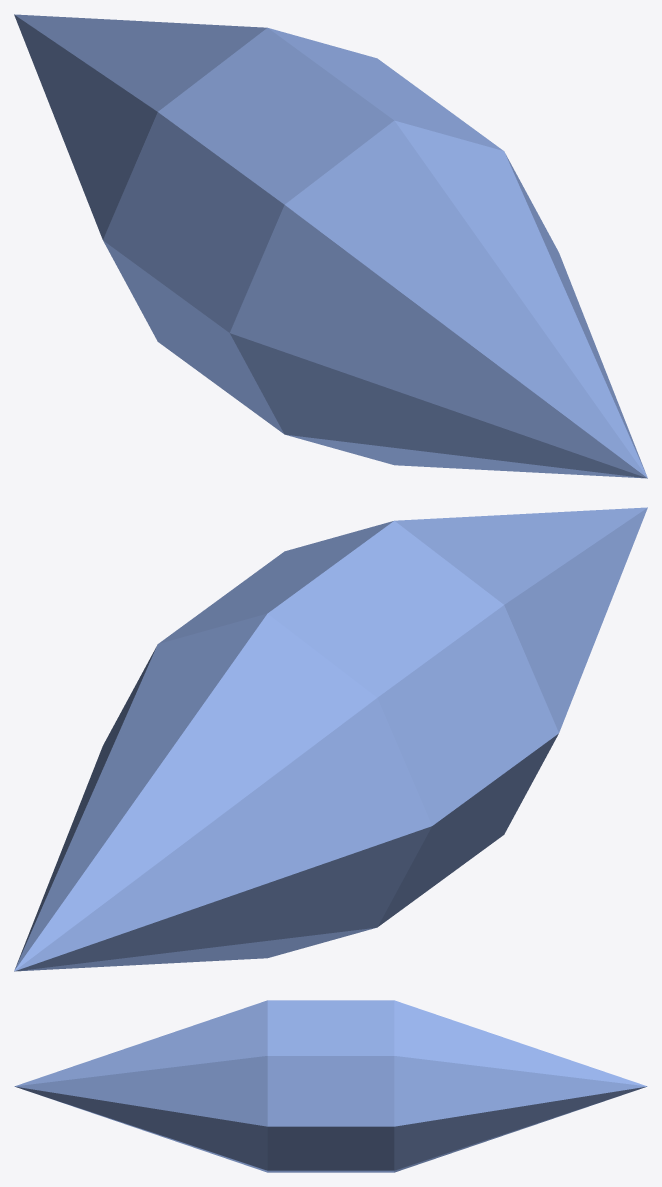
File: Cryoshard-v01.glb
3 views of the same model, one above another, from view 1: azimuth 30°, elevation 25°; view 2: azimuth 150°, elevation 25°; view 3: azimuth 270°, elevation 25° (orthographic). The views are drawn at different scales.
Parts seen in each view (by area): view 1: Cube; view 2: Cube; view 3: Cube.
Boxes of the visible parts, bbox=[...] form: Cube: bbox=[14, 14, 647, 478]; Cube: bbox=[14, 507, 647, 971]; Cube: bbox=[14, 1000, 647, 1172].
Size of the model in its own units: 0.6 by 0.6 by 2.
